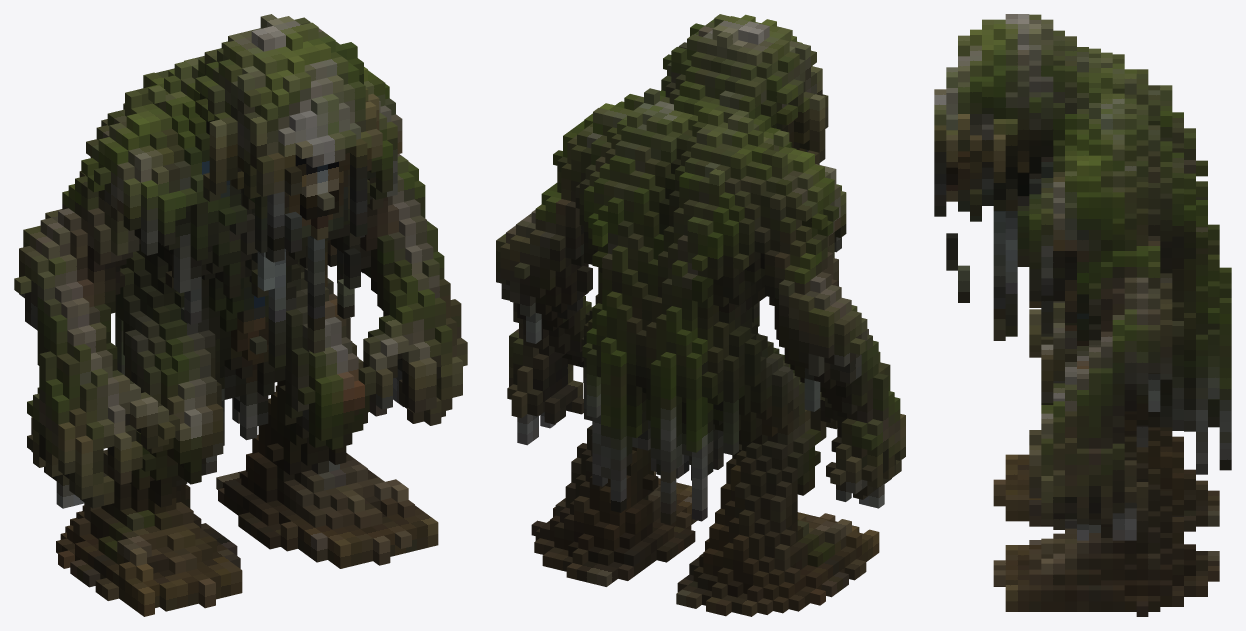
The model's file is u_husk.glb.
3 renders of one model, left to right at view 1: azimuth 30°, elevation 25°; view 2: azimuth 150°, elevation 25°; view 3: azimuth 270°, elevation 25°, orthographic. The views are drawn at different scales.
Visible parts, largest first — view 1: husk_body; view 2: husk_body; view 3: husk_body.
Boxes of the visible parts, <box> form: husk_body: <box>14,14,467,616</box>; husk_body: <box>496,14,905,616</box>; husk_body: <box>934,14,1231,616</box>.
Size of the model in its own units: 0.8672 by 1.12 by 0.5859.
1 material, 1 textured.
